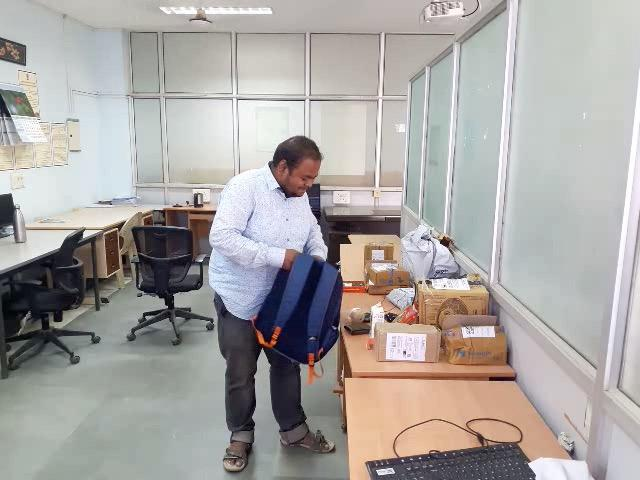shoplifting: (194, 203, 362, 388)
